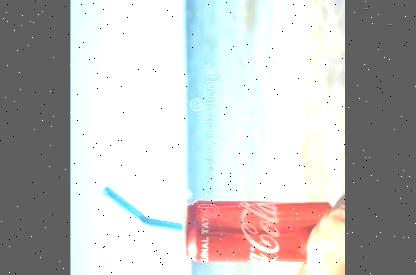Can: (181, 198, 332, 262)
